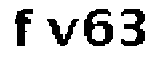3: (120, 8, 147, 51)
6: (81, 4, 115, 51)
f: (10, 6, 39, 51)
v: (45, 15, 78, 50)
